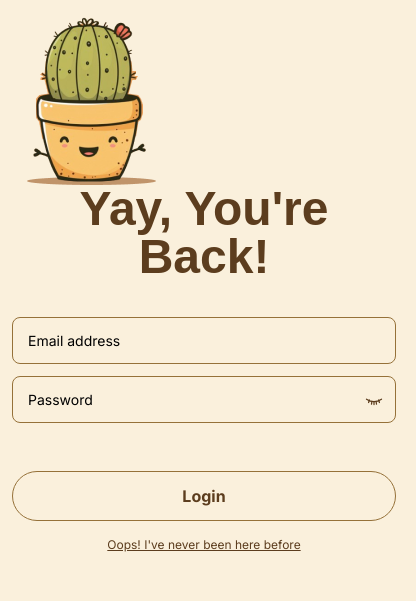
Test case: LoginForm › shows root error for general API failures
Type "test@example.com" into the field with placeholder "Email address".
click(204, 340); type("test@example.com")  # box [12, 317, 396, 364]
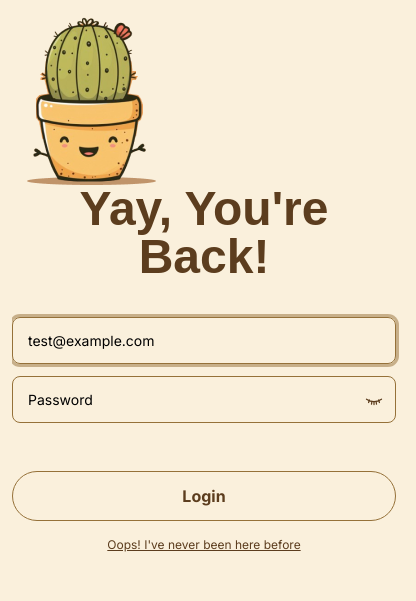
Type "password123" into the password field with placeholder "Password".
click(204, 400); type("password123")  # box [12, 376, 396, 423]
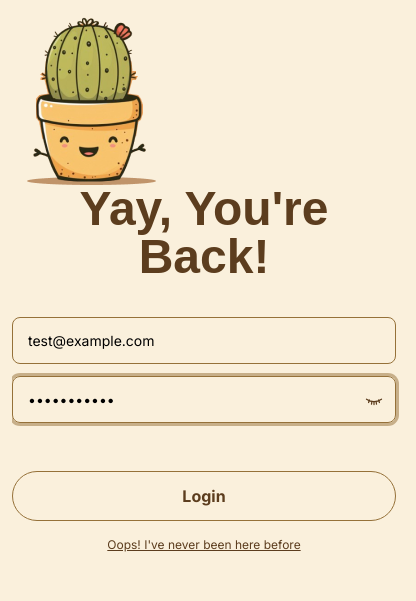
Click the button "Login".
click(204, 496)  # box [12, 471, 396, 521]
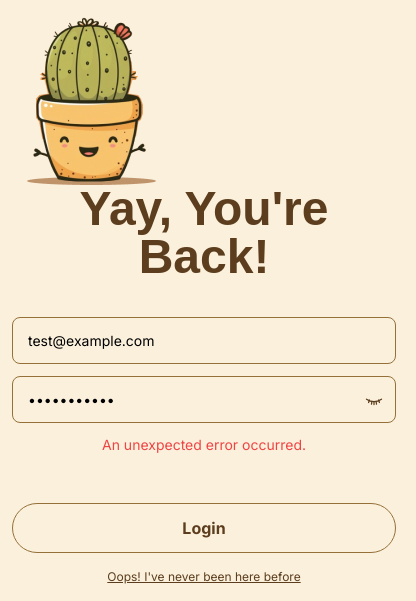
Expected: the text "An unexpected error occurred." is shown, [102, 436, 306, 453]
